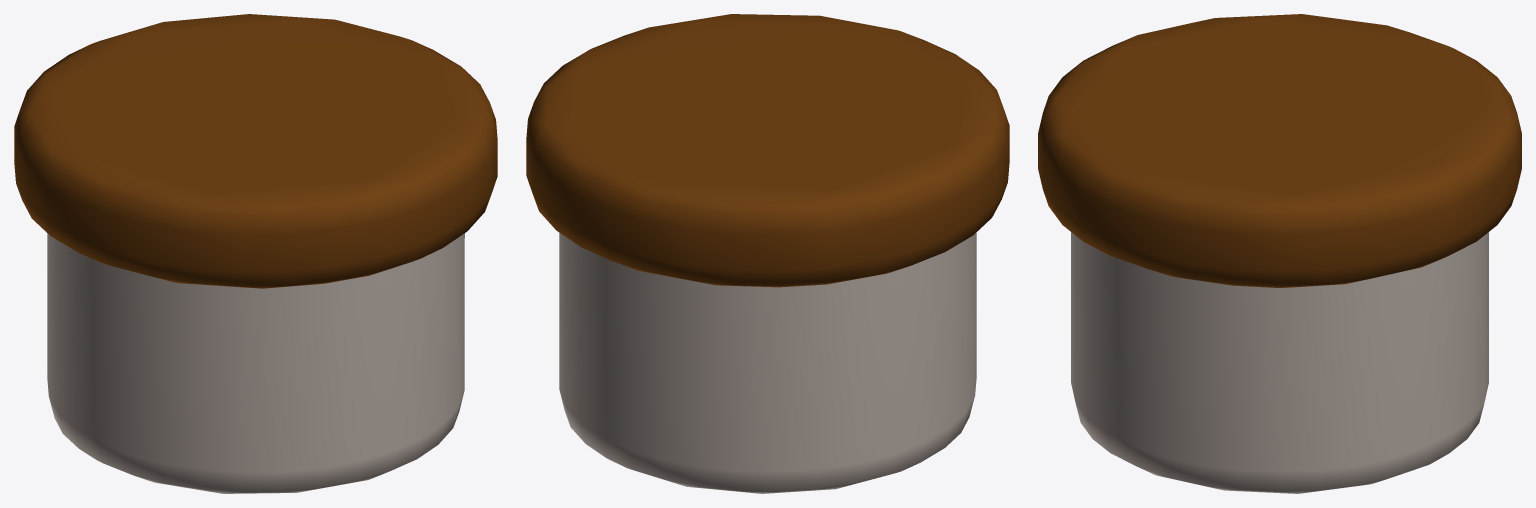
The model's file is stool_03_brown_dark.fbx.
The picture shows the model from 3 angles, left to right: view 1: azimuth 30°, elevation 25°; view 2: azimuth 150°, elevation 25°; view 3: azimuth 270°, elevation 25°; orthographic projection.
Parts seen in each view (by area): view 1: stool_03_brown_dark; view 2: stool_03_brown_dark; view 3: stool_03_brown_dark.
Boxes of the visible parts, x1,y1,x2,y2 form: stool_03_brown_dark: (14,14,497,493); stool_03_brown_dark: (526,14,1009,493); stool_03_brown_dark: (1038,14,1521,493).
Size of the model in its own units: 56.81 by 39.98 by 56.81.
1 material, 1 textured.
